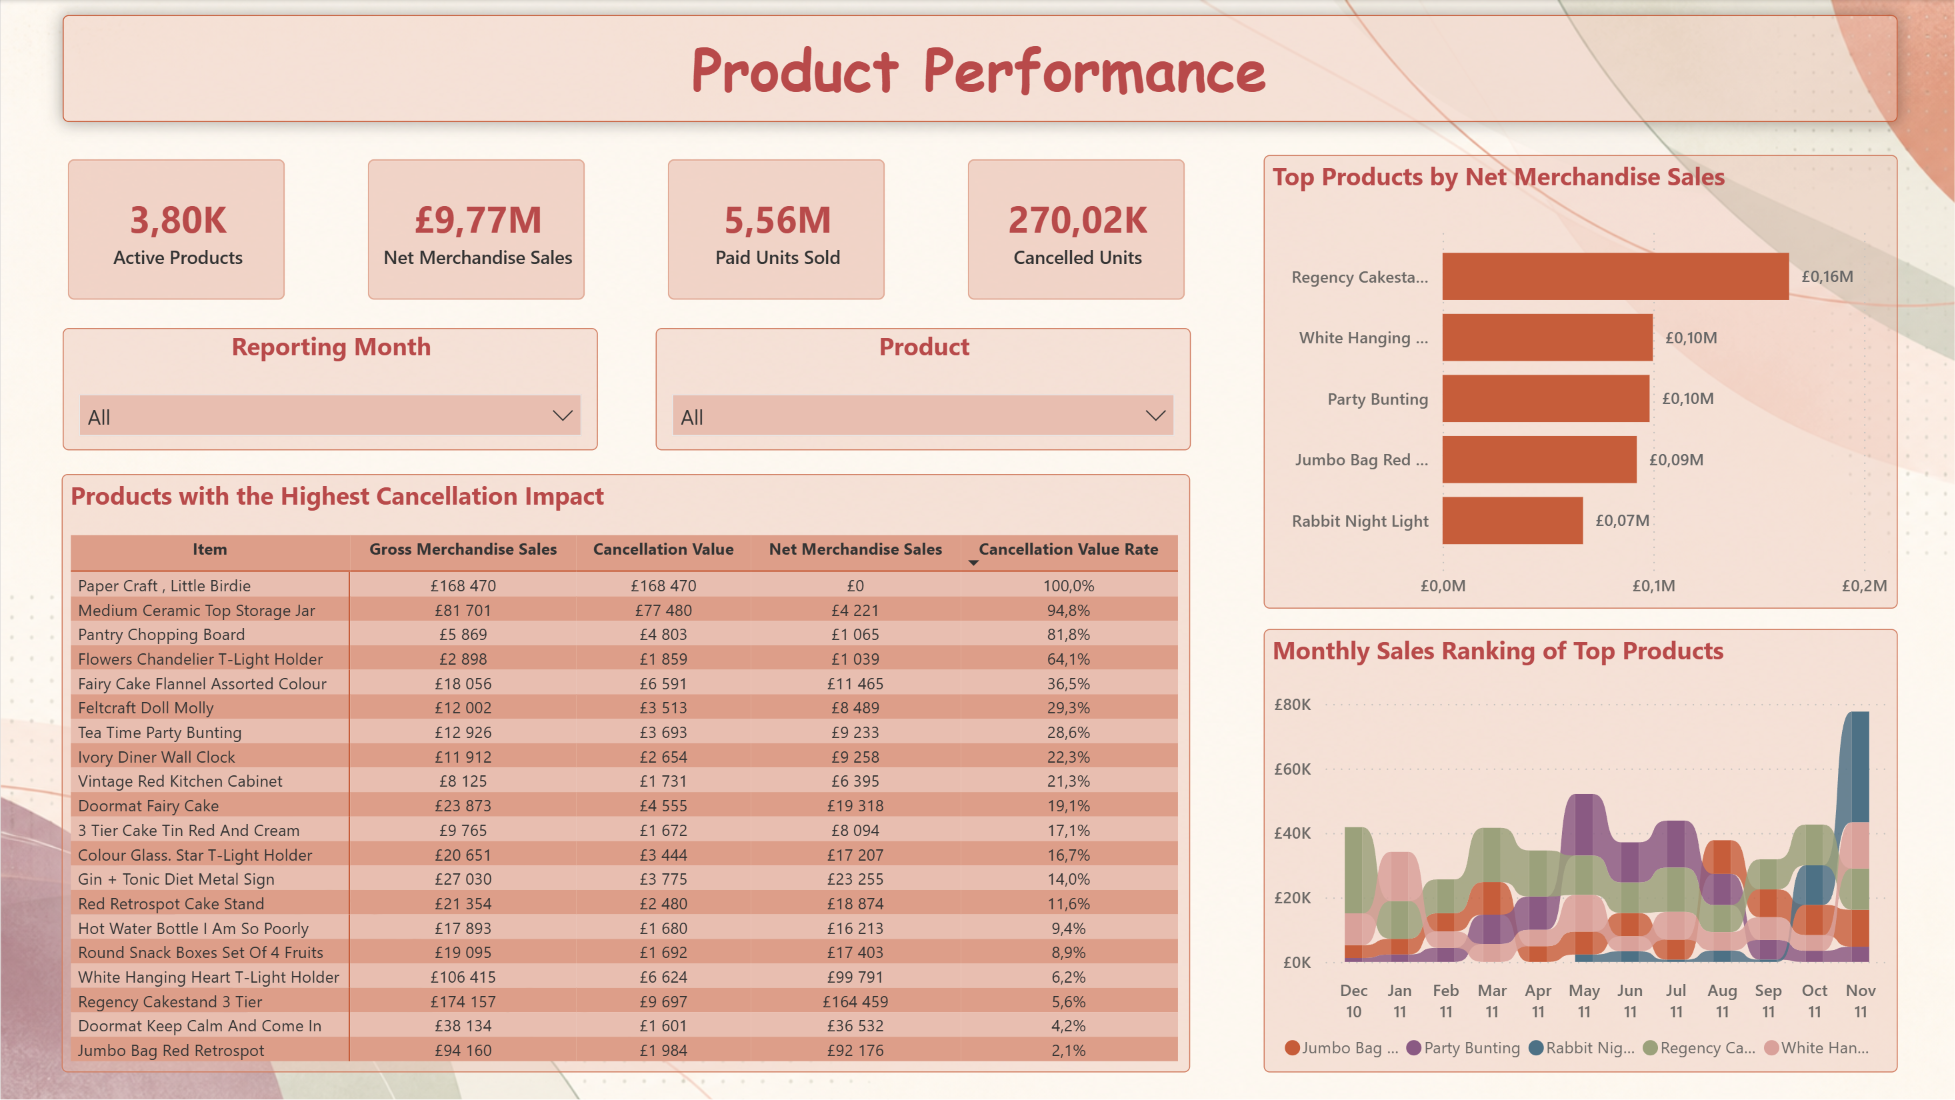

The page's visual inventory and layout, read from the dashboard file:
{"tool":"powerbi","page":{"name":"Product Performance","canvas":[1280,720],"ordinal":1},"visuals":[{"type":"cardVisual","fields":{"Data":["_Measures.Active Products"]},"box":[40,100,150,100],"z":0},{"type":"cardVisual","fields":{"Data":["_Measures.Cancelled Units"]},"box":[628.4,100,150,100],"z":1000},{"type":"cardVisual","fields":{"Data":["_Measures.Net Merchandise Sales"]},"box":[236.1,100,150,100],"z":3000},{"type":"cardVisual","fields":{"Data":["_Measures.Paid Units Sold"]},"box":[432.3,100,150,100],"z":4000},{"type":"clusteredBarChart","title":"Top Products by Net Merchandise Sales","fields":{"Category":["dim_item.item_description"],"Y":["_Measures.Net Merchandise Sales"]},"box":[825.9,101.4,414.6,296.9],"z":5000},{"type":"pivotTable","title":"Products with the Highest Cancellation Impact","fields":{"Rows":["dim_item.item_description"],"Values":["_Measures.Gross Merchandise Sales","_Measures.Cancellation Value","_Measures.Net Merchandise Sales","_Measures.Cancellation Value Rate"]},"box":[39.9,310,738.3,391.1],"z":6000},{"type":"ribbonChart","title":"Monthly Sales Ranking of Top Products","fields":{"Category":["dim_date.Month Year"],"Series":["dim_item.item_description"],"Y":["_Measures.Net Merchandise Sales"]},"box":[825.9,411.3,414.6,289.7],"z":7000},{"type":"slicer","title":"Reporting Month","fields":{"Values":["dim_date.Month Year"]},"box":[40.5,214.5,350,80],"z":8000},{"type":"slicer","title":"Product","fields":{"Values":["dim_item.item_description"]},"box":[428.3,214.5,350,80],"z":9000},{"type":"textbox","box":[40.5,10,1200,70],"z":10000}]}

Visuals, with their boxes in screenshot pixels (x1, y1, x2, y2), scaled from the page's 1280x720 canvas onto the 1955x1100 screenshot:
cardVisual - _Measures.Active Products: detection(61, 153, 290, 306)
cardVisual - _Measures.Cancelled Units: detection(960, 153, 1189, 306)
cardVisual - _Measures.Net Merchandise Sales: detection(361, 153, 590, 306)
cardVisual - _Measures.Paid Units Sold: detection(660, 153, 889, 306)
"Top Products by Net Merchandise Sales" clusteredBarChart: detection(1261, 155, 1895, 609)
"Products with the Highest Cancellation Impact" pivotTable: detection(61, 474, 1189, 1071)
"Monthly Sales Ranking of Top Products" ribbonChart: detection(1261, 628, 1895, 1071)
"Reporting Month" slicer: detection(62, 328, 596, 450)
"Product" slicer: detection(654, 328, 1189, 450)
textbox: detection(62, 15, 1895, 122)
